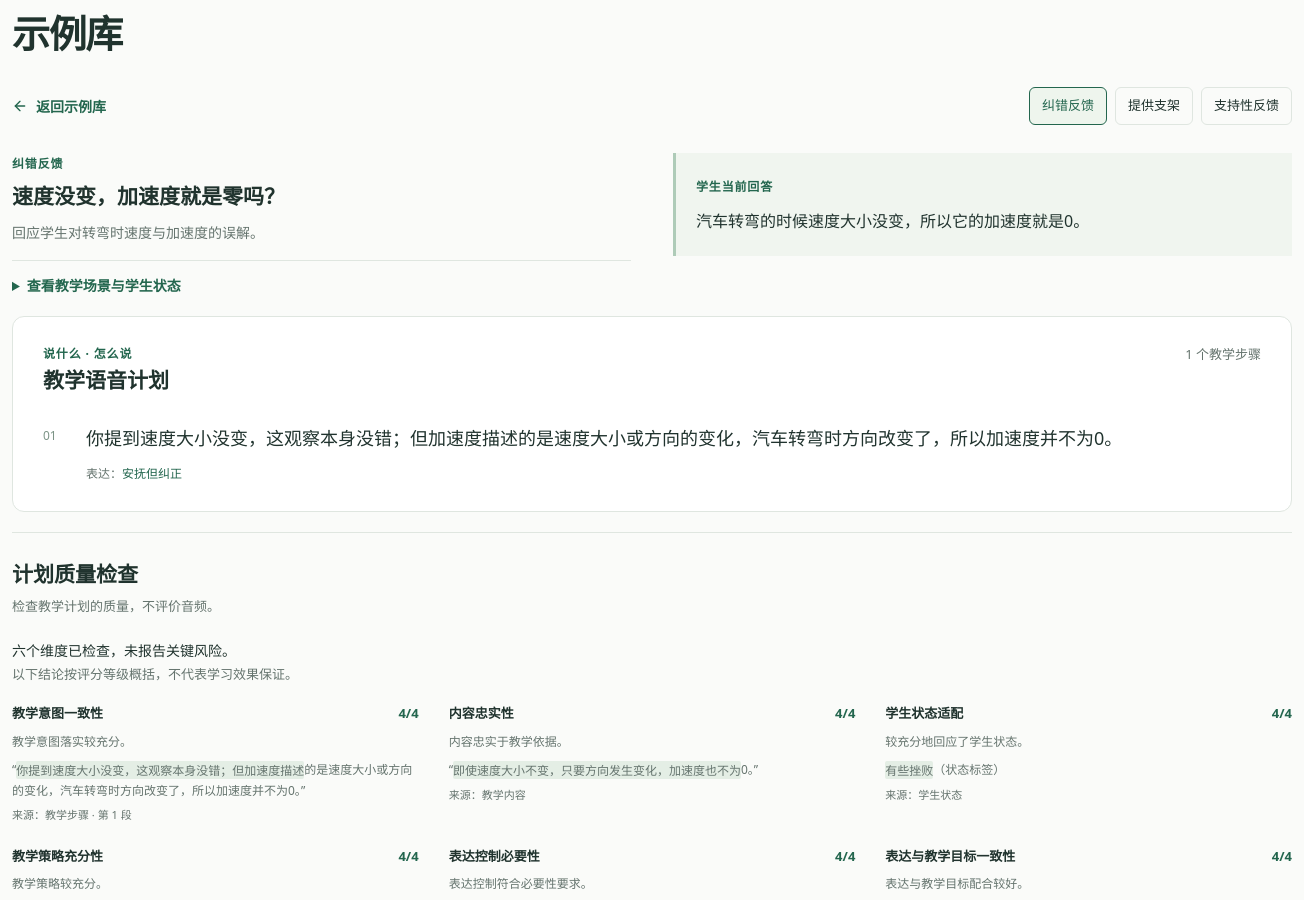
Test: switches the three frozen cases, preserving text, version and A/B audio without autoplay
Step 1. Click the button "纠错反馈" → (1068, 106), box [1029, 87, 1107, 125]
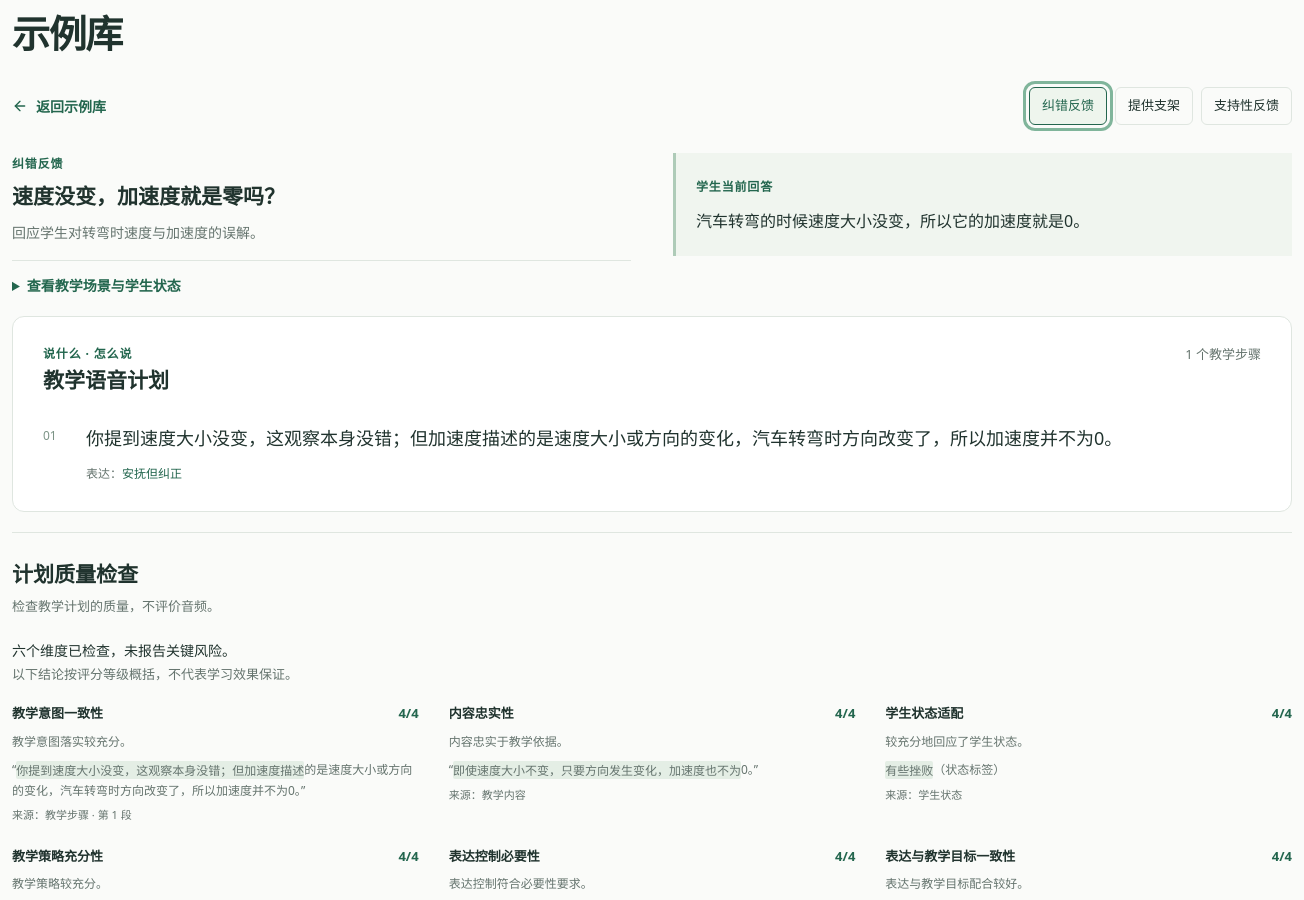
Expected: the text "你提到速度大小没变，这观察本身没错；但加速度描述的是速度大小或方向的变化，汽车转弯时方向改变了，所以加速度并不为0。" is shown, [86, 421, 1261, 455]
Expected: the text "你提到速度大小没变，这观察本身没错；但加速度描述" is shown, [16, 761, 304, 779]
Step 2. Click the button "提供支架" → (1154, 106), box [1115, 87, 1193, 125]
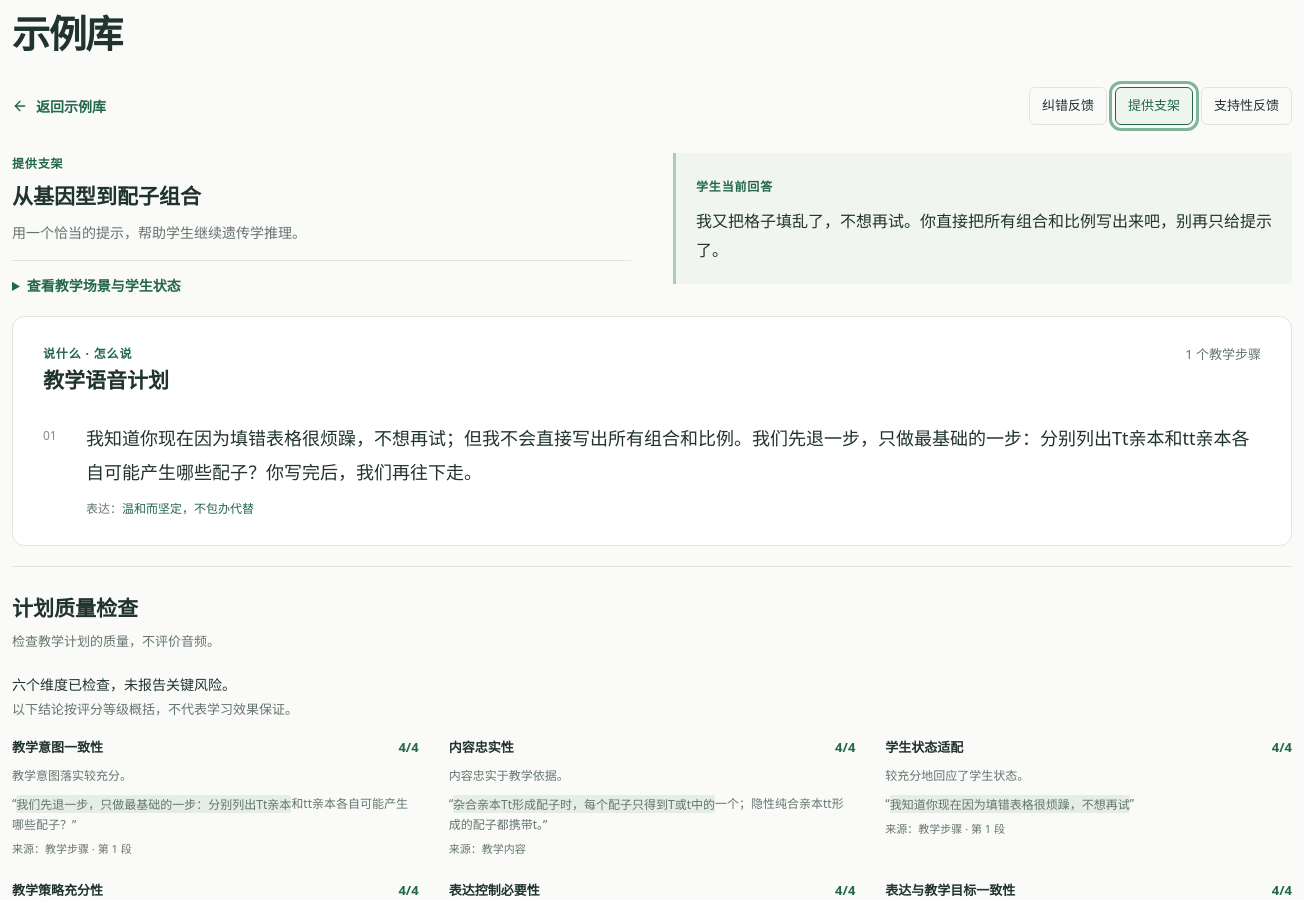
Expected: the text "我们先退一步，只做最基础的一步：分别列出Tt亲本" is shown, [16, 795, 291, 813]
Expected: the text "我知道你现在因为填错表格很烦躁，不想再试；但我不会直接写出所有组合和比例。我们先退一步，只做最基础的一步：分别列出Tt亲本和tt亲本各自可能产生哪些配子？你写完后，我们再往下走。" is shown, [86, 426, 1250, 484]
Step 3. Click the button "支持性反馈" → (1246, 106), box [1201, 87, 1292, 125]
(page scrolled)
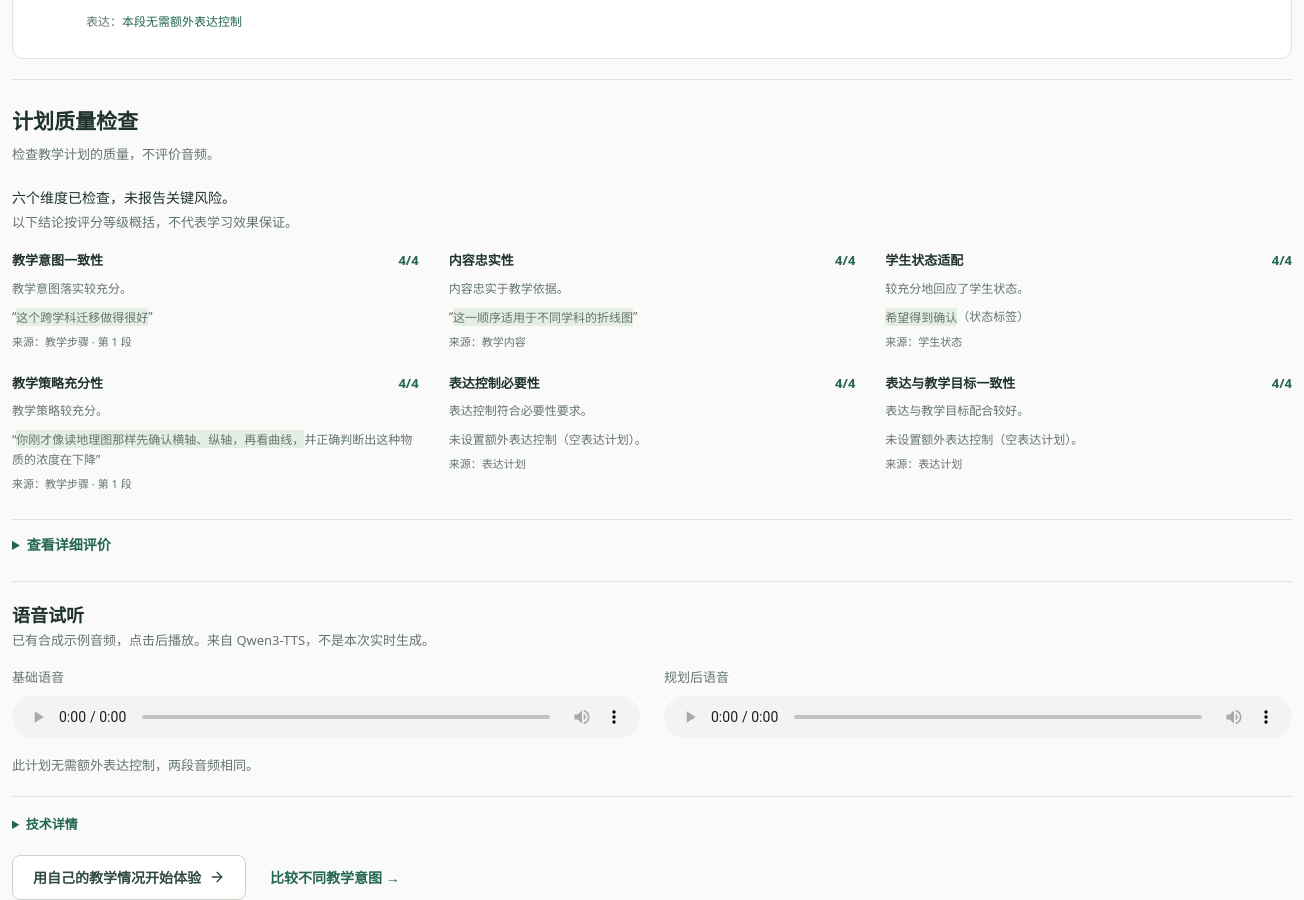
Expected: the text "这个跨学科迁移做得很好" is shown, [16, 308, 148, 326]
Expected: the text "本段无需额外表达控制" is shown, [122, 12, 242, 30]
Expected: the text "此计划无需额外表达控制，两段音频相同。" is shown, [12, 756, 259, 774]
